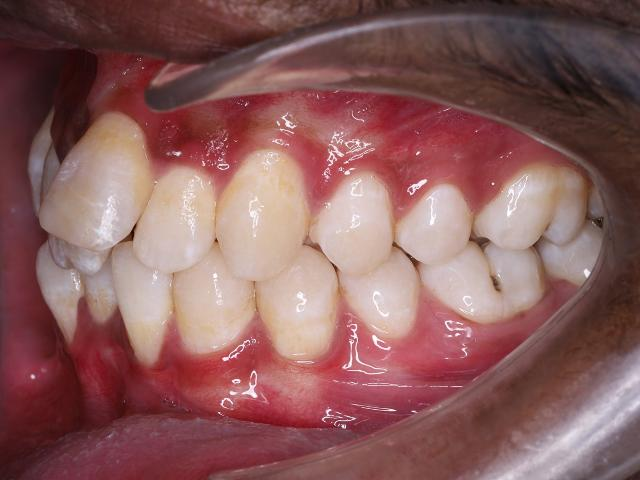canine class I: (171, 139, 341, 373)
molar class III 1/2: (418, 160, 592, 328)
